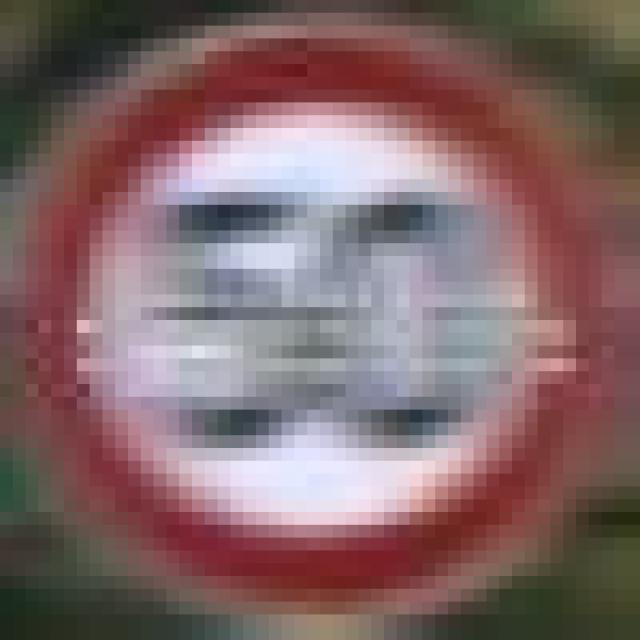speed_limit_30: (26, 13, 576, 589)
